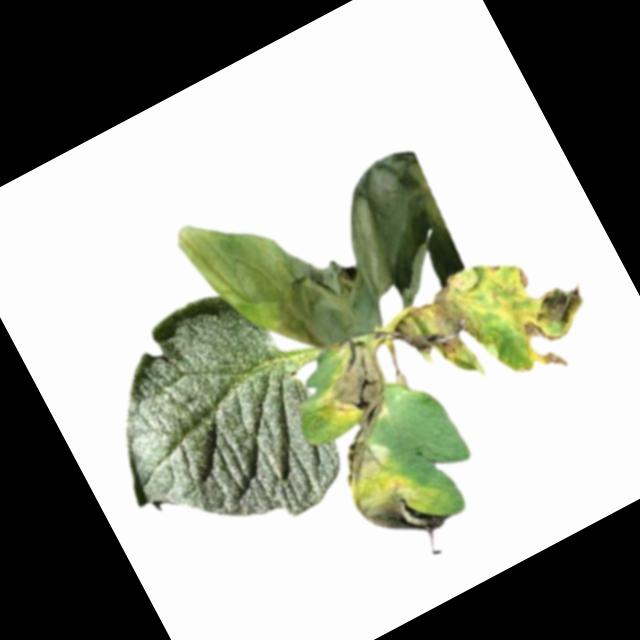Late_blight: (170, 114, 478, 392), (379, 222, 613, 432), (326, 411, 460, 558), (302, 336, 402, 441)
